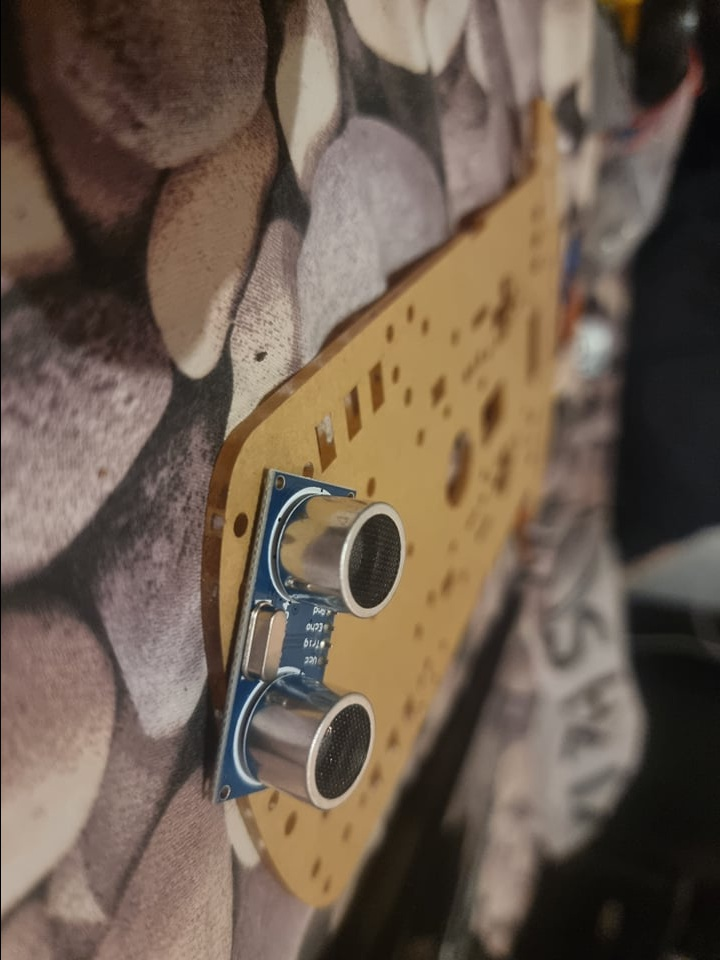SENSOR: (208, 465, 404, 811)
